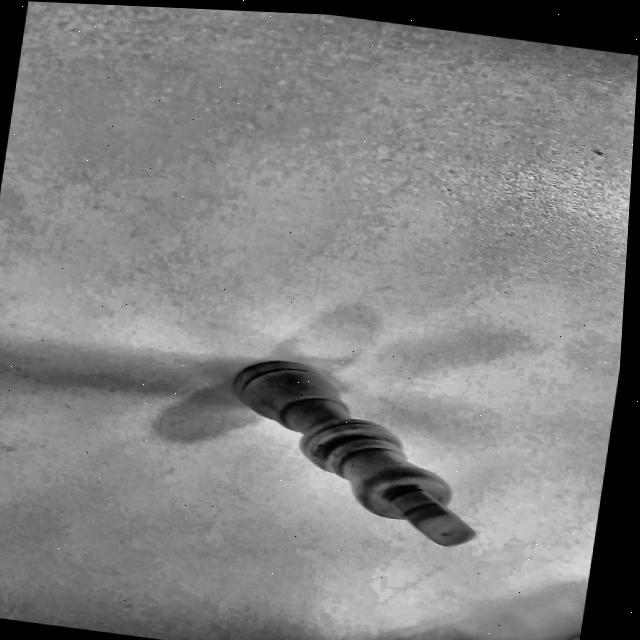white-king: (229, 360, 472, 545)
